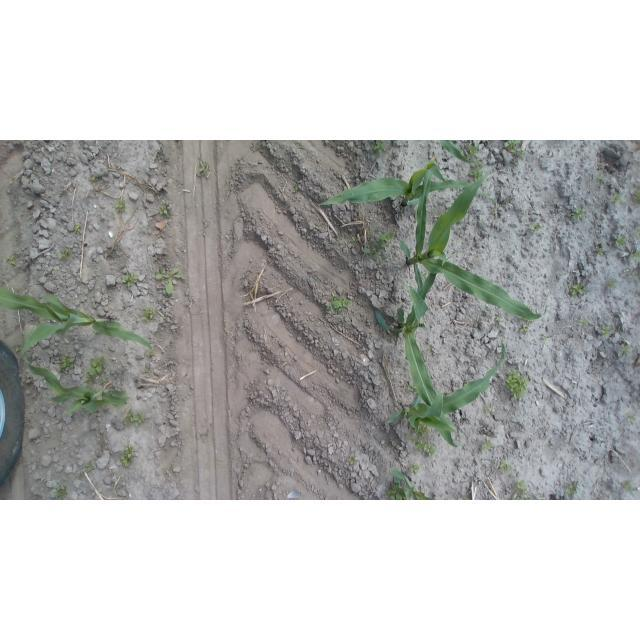Maize: (399, 168, 548, 320), (373, 269, 463, 450), (0, 285, 152, 364), (387, 340, 505, 433), (319, 166, 497, 213), (21, 348, 133, 417), (389, 465, 471, 500), (437, 140, 480, 165)
Weeds: (361, 232, 395, 261), (156, 267, 186, 295), (505, 367, 530, 399), (84, 356, 107, 389), (325, 292, 352, 314), (414, 438, 436, 457), (121, 443, 136, 468), (503, 141, 525, 158), (124, 410, 145, 427), (468, 163, 486, 182), (386, 484, 406, 500), (516, 479, 531, 500), (57, 356, 75, 373), (121, 272, 140, 288), (371, 140, 390, 156), (52, 484, 68, 500), (113, 196, 127, 213), (143, 307, 157, 321), (407, 462, 421, 476), (498, 460, 512, 474), (569, 284, 584, 297), (415, 424, 429, 437), (564, 483, 577, 497), (624, 480, 637, 494), (600, 325, 612, 340), (482, 436, 493, 452), (468, 144, 481, 157), (58, 248, 72, 260), (160, 204, 171, 218), (572, 207, 585, 218), (85, 460, 96, 472), (616, 236, 628, 247), (608, 279, 617, 292), (530, 222, 541, 232), (611, 194, 621, 205), (618, 347, 630, 356), (7, 254, 16, 265), (199, 160, 207, 172), (349, 455, 358, 465), (485, 404, 494, 413), (88, 175, 98, 183), (406, 384, 416, 392), (293, 184, 300, 195), (625, 415, 636, 422), (145, 348, 153, 357), (12, 343, 21, 351), (72, 224, 81, 232), (520, 324, 529, 332), (580, 319, 589, 327), (631, 252, 640, 260), (407, 435, 415, 444), (536, 492, 544, 501), (635, 190, 640, 203), (596, 248, 604, 256), (597, 175, 605, 182), (428, 158, 436, 165), (88, 429, 96, 436), (254, 437, 261, 444), (313, 276, 319, 284), (632, 271, 640, 277), (427, 344, 432, 353), (496, 315, 503, 321), (315, 220, 321, 226), (541, 333, 547, 339), (546, 444, 552, 450), (167, 467, 173, 473), (351, 236, 358, 241), (108, 212, 116, 216), (636, 228, 640, 236), (163, 316, 169, 321), (477, 317, 482, 323), (217, 458, 222, 464), (204, 437, 209, 443), (77, 474, 81, 480), (623, 268, 629, 272), (81, 280, 84, 284)
